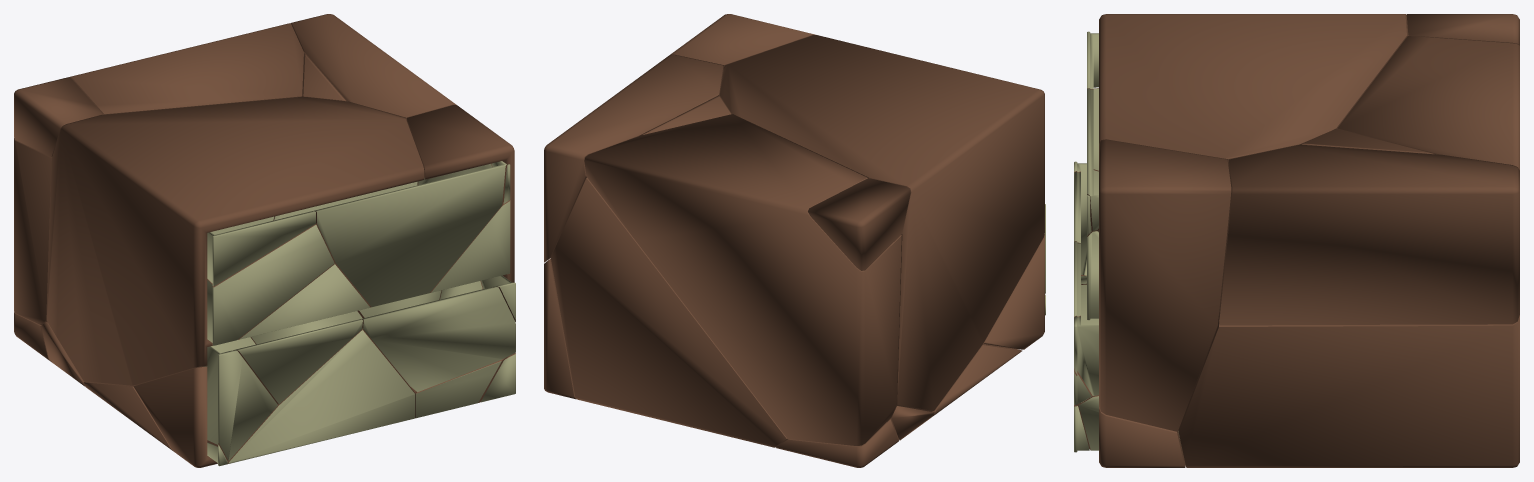
Rendered from Mesitadenoche01_Roto.fbx.
3 renders of one model, left to right at view 1: azimuth 30°, elevation 25°; view 2: azimuth 150°, elevation 25°; view 3: azimuth 270°, elevation 25°, orthographic. The views are drawn at different scales.
Visible parts, largest first — view 1: Mesita de noche1_cell.008, Mesita de noche1_cell.004, Mesita de noche1.005_cell.007, Mesita de noche1.006_cell.006, Mesita de noche1.006_cell.005, Mesita de noche1_cell.010, Mesita de noche1.005_cell.006, Mesita de noche1_cell.013, Mesita de noche1.006_cell.013, Mesita de noche1_cell.001, Mesita de noche1.006_cell.007, Mesita de noche1_cell.011 (+13 smaller); view 2: Mesita de noche1_cell.004, Mesita de noche1_cell.008, Mesita de noche1_cell.014, Mesita de noche1_cell.010, Mesita de noche1_cell.011, Mesita de noche1_cell.013, Mesita de noche1_cell.001, Mesita de noche1_cell.006, Mesita de noche1_cell.012, Mesita de noche1_cell.003, Mesita de noche1_cell.002; view 3: Mesita de noche1_cell.010, Mesita de noche1_cell.006, Mesita de noche1_cell.008, Mesita de noche1_cell.013, Mesita de noche1_cell.004, Mesita de noche1_cell.007, Mesita de noche1_cell.011, Mesita de noche1.006_cell.002, Mesita de noche1_cell.014, Mesita de noche1.005_cell.007, Mesita de noche1.005_cell.002, Mesita de noche1.006_cell.005 (+6 smaller).
Boxes of the visible parts, x1=… form: Mesita de noche1_cell.008: x1=47, y1=96, x2=424, y2=385; Mesita de noche1_cell.004: x1=14, y1=23, x2=303, y2=324; Mesita de noche1.005_cell.007: x1=313, y1=161, x2=507, y2=307; Mesita de noche1.006_cell.006: x1=211, y1=329, x2=414, y2=464; Mesita de noche1.006_cell.005: x1=361, y1=287, x2=515, y2=392; Mesita de noche1_cell.010: x1=290, y1=14, x2=456, y2=119; Mesita de noche1.005_cell.006: x1=207, y1=224, x2=334, y2=345; Mesita de noche1_cell.013: x1=406, y1=105, x2=514, y2=282; Mesita de noche1.006_cell.013: x1=203, y1=346, x2=277, y2=460; Mesita de noche1_cell.001: x1=133, y1=366, x2=217, y2=467; Mesita de noche1.006_cell.007: x1=233, y1=319, x2=362, y2=404; Mesita de noche1_cell.011: x1=14, y1=77, x2=102, y2=156; Mesita de noche1_cell.004: x1=584, y1=114, x2=901, y2=445; Mesita de noche1_cell.008: x1=719, y1=35, x2=1044, y2=411; Mesita de noche1_cell.014: x1=551, y1=96, x2=787, y2=447; Mesita de noche1_cell.010: x1=544, y1=55, x2=723, y2=262; Mesita de noche1_cell.011: x1=808, y1=178, x2=910, y2=270; Mesita de noche1_cell.013: x1=670, y1=14, x2=815, y2=69; Mesita de noche1_cell.001: x1=983, y1=234, x2=1044, y2=349; Mesita de noche1_cell.006: x1=544, y1=258, x2=576, y2=399; Mesita de noche1_cell.012: x1=776, y1=417, x2=898, y2=467; Mesita de noche1_cell.003: x1=932, y1=343, x2=1022, y2=416; Mesita de noche1_cell.002: x1=891, y1=406, x2=933, y2=440; Mesita de noche1_cell.010: x1=1219, y1=144, x2=1519, y2=325; Mesita de noche1_cell.006: x1=1178, y1=312, x2=1519, y2=467; Mesita de noche1_cell.008: x1=1099, y1=14, x2=1408, y2=163; Mesita de noche1_cell.013: x1=1099, y1=139, x2=1231, y2=431; Mesita de noche1_cell.004: x1=1337, y1=36, x2=1519, y2=170; Mesita de noche1_cell.007: x1=1099, y1=407, x2=1185, y2=467; Mesita de noche1_cell.011: x1=1406, y1=14, x2=1519, y2=45; Mesita de noche1.006_cell.002: x1=1074, y1=316, x2=1098, y2=395; Mesita de noche1_cell.014: x1=1302, y1=129, x2=1434, y2=154; Mesita de noche1.005_cell.007: x1=1087, y1=88, x2=1098, y2=235; Mesita de noche1.005_cell.002: x1=1087, y1=231, x2=1098, y2=320; Mesita de noche1.006_cell.005: x1=1074, y1=242, x2=1092, y2=405.
Bounding box in the file's own units: 70.73 × 52.07 × 74.93.
